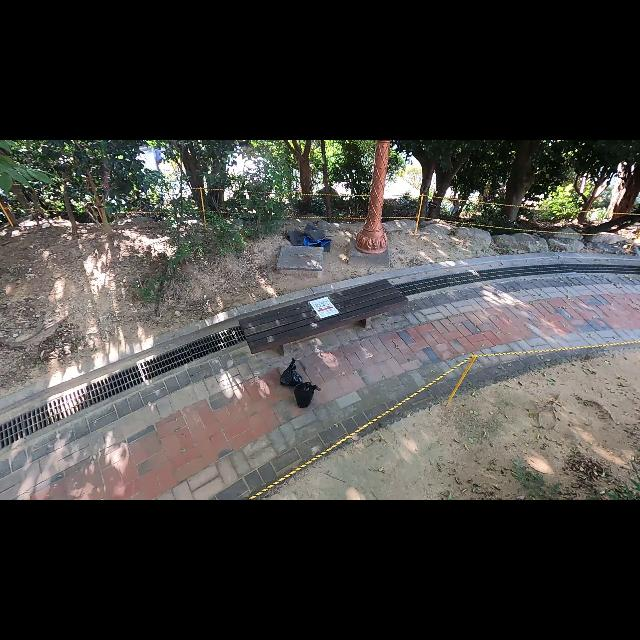trash: (286, 222, 332, 254), (292, 380, 322, 408), (280, 358, 302, 388)
